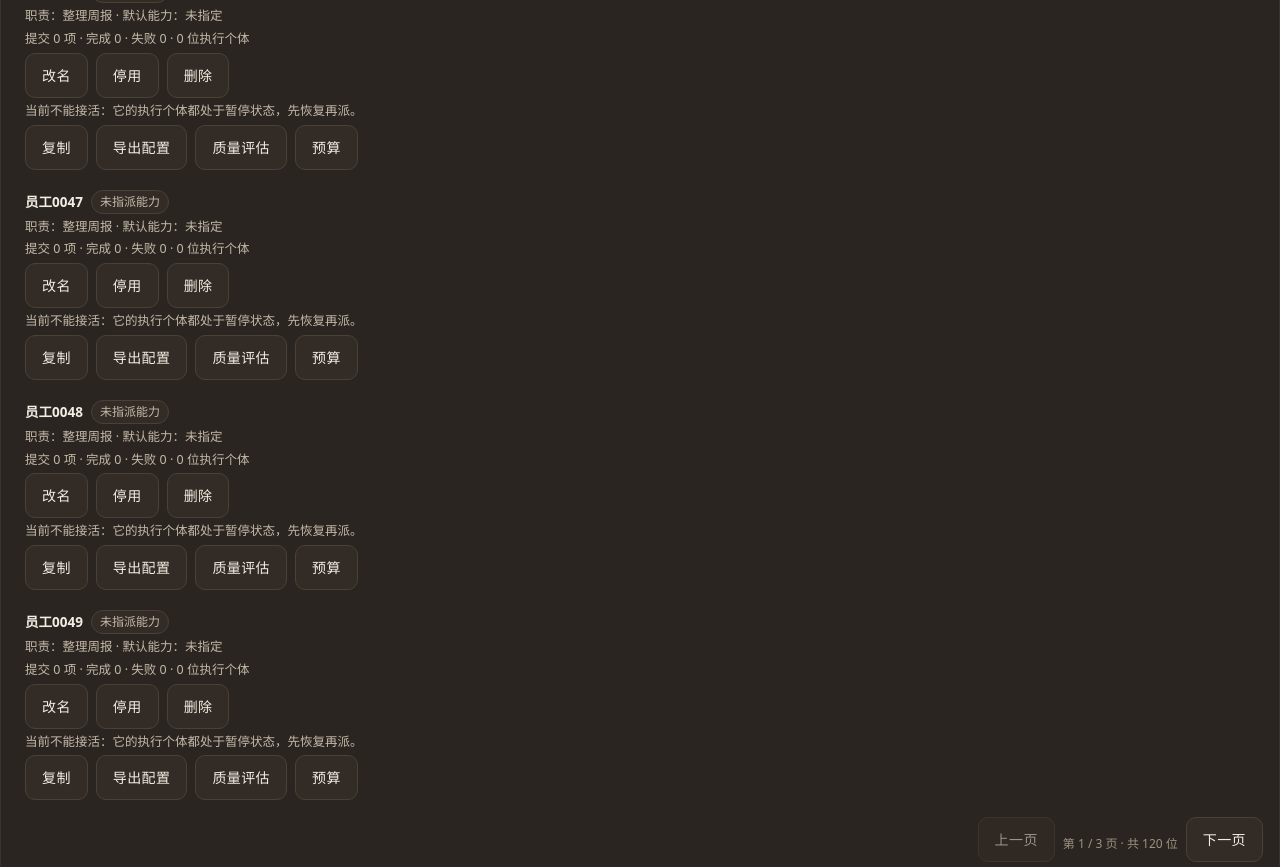
Test: 员工名册分页 › 接口全量返回时只渲染 50 条一页，翻页与搜索回第一页
Later steps or results of the test are not shown.
(page scrolled)
Expected: the text "员工0049" is shown, [25,612,83,632]
Expected: the text "员工0050" is not shown
Click the button "下一页" at (1224, 840), box [1186,817,1263,862]
(page scrolled)
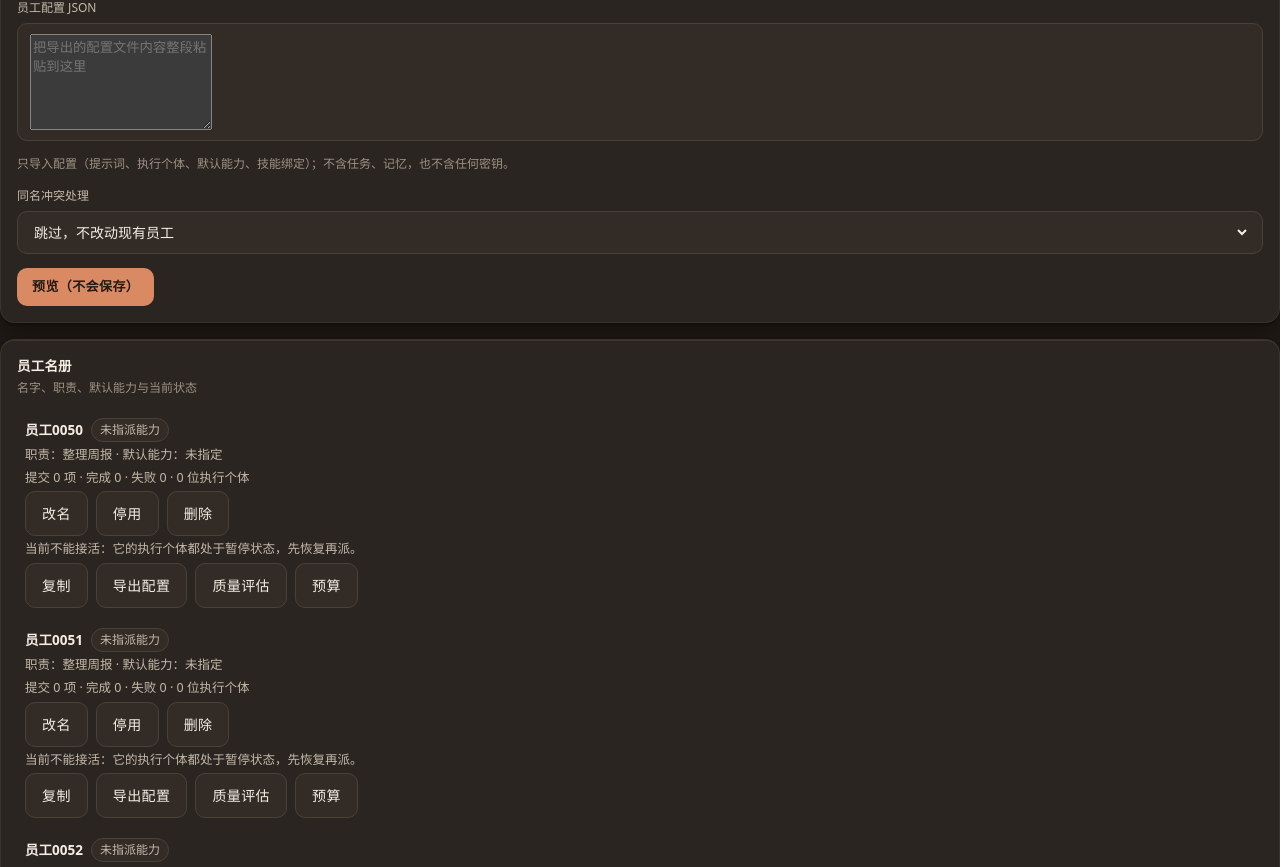
Expected: the text "员工0050" is shown, [25,420,83,440]
